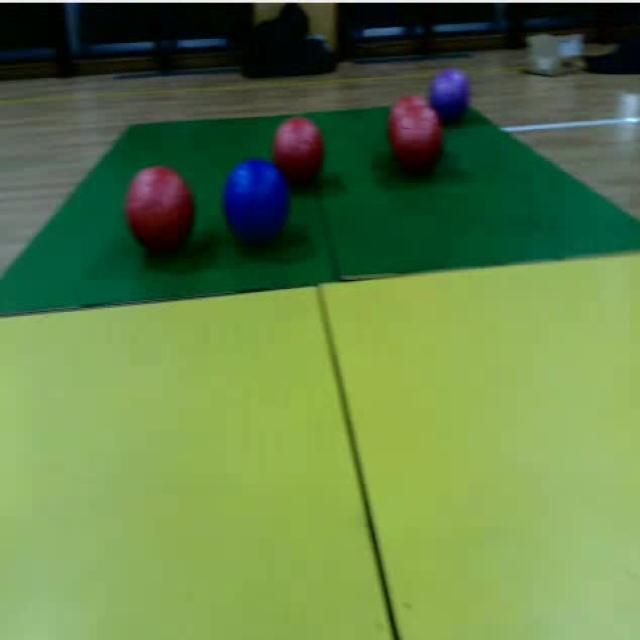blue_ball: (221, 152, 291, 248), (427, 64, 471, 132)
red_ball: (124, 165, 198, 262), (384, 100, 446, 178), (271, 112, 323, 187), (382, 89, 440, 154)
